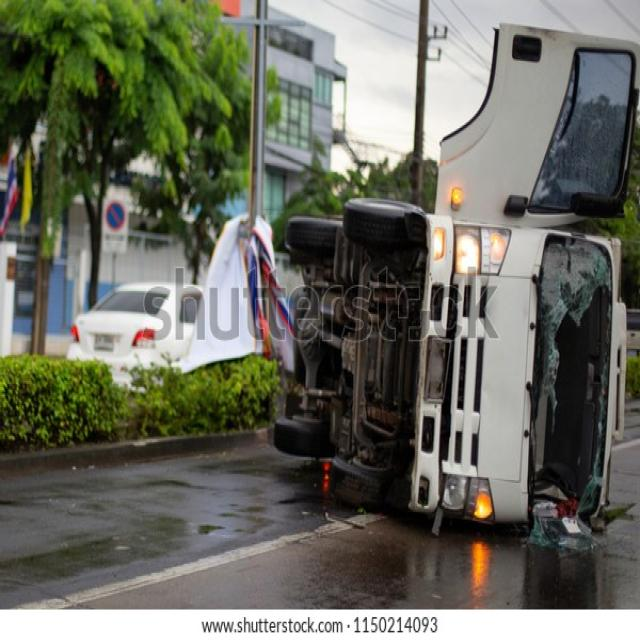Accident: (264, 16, 640, 568)
